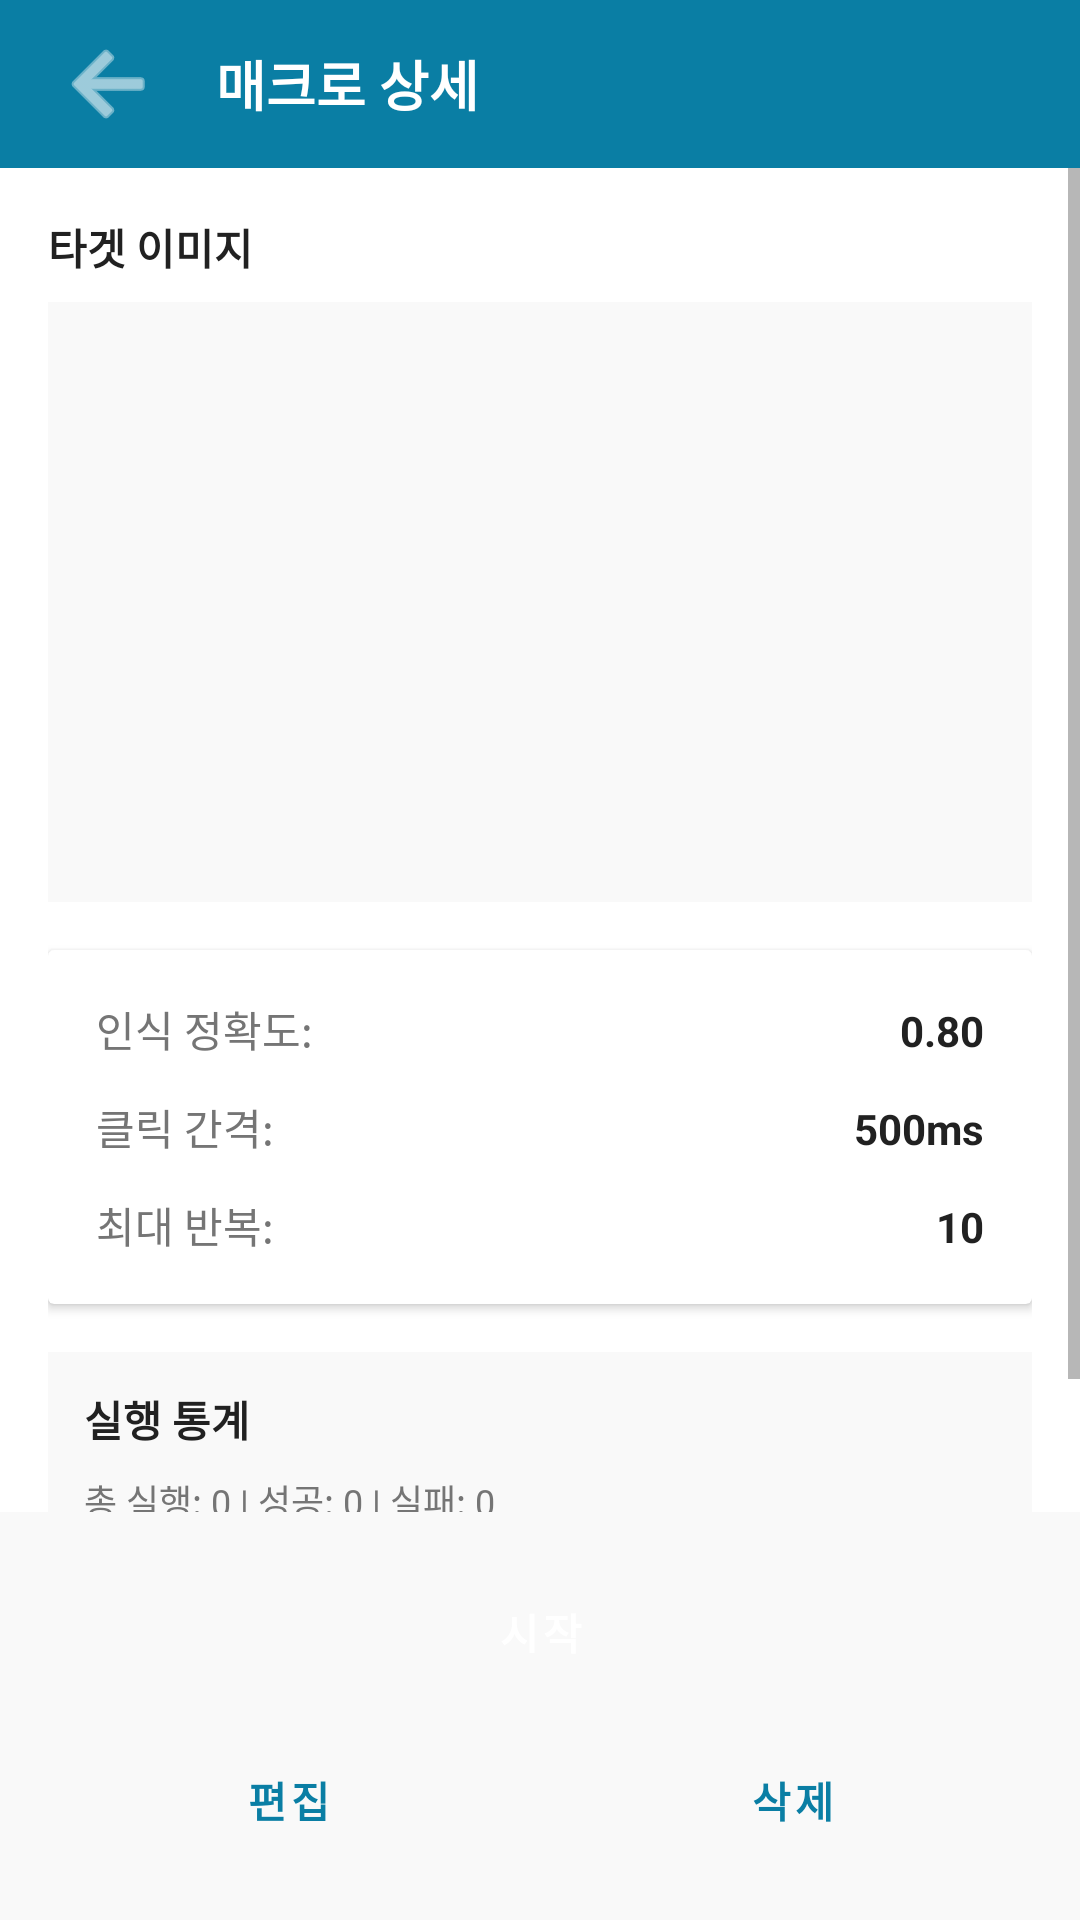

Locate icon controls on the screen. Image size 1080px x 1920px, boxes as (x1, y1, x2, y2).
뒤로 가기: (71, 49, 145, 119)
